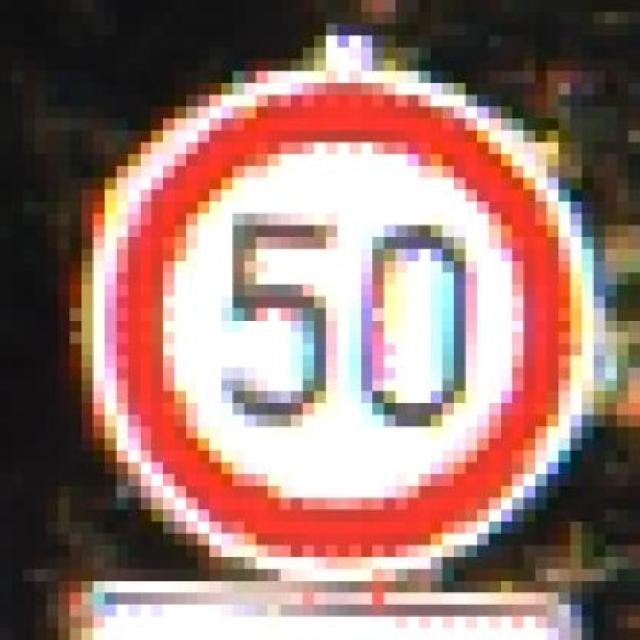forb_speed_over_50: (104, 77, 587, 574)
